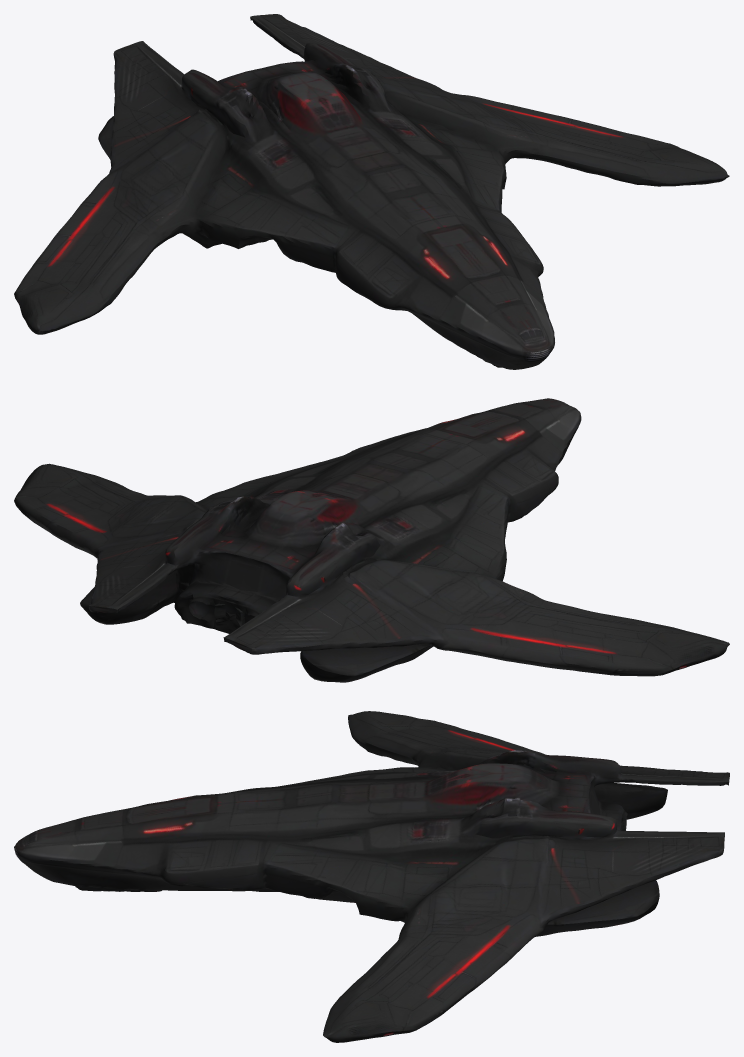
Rendered from Eidolon Shadow.glb.
The picture shows the model from 3 angles, top to bottom: view 1: azimuth 30°, elevation 25°; view 2: azimuth 150°, elevation 25°; view 3: azimuth 270°, elevation 25°; orthographic projection. The views are drawn at different scales.
Visible parts, largest first — view 1: Eidolon_Shadow; view 2: Eidolon_Shadow; view 3: Eidolon_Shadow.
Part boxes in pixels (x1=…): Eidolon_Shadow: x1=14, y1=14, x2=729, y2=369; Eidolon_Shadow: x1=14, y1=398, x2=729, y2=682; Eidolon_Shadow: x1=14, y1=711, x2=729, y2=1042.
Bounding box in the file's own units: 33.68 × 5.87 × 31.49.
1 material, 1 textured.
